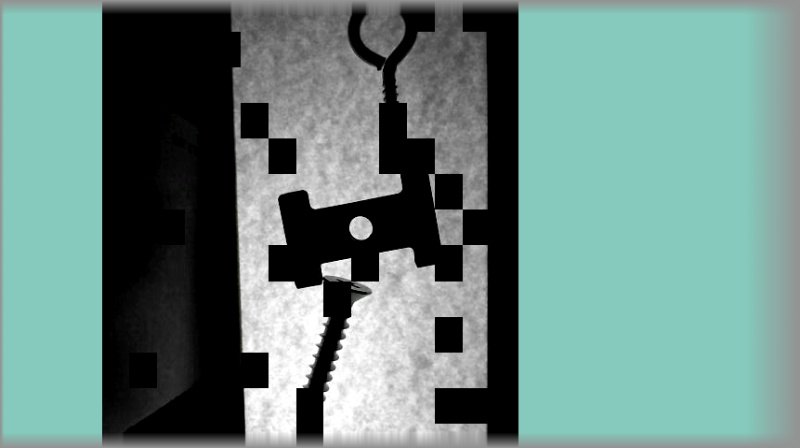O001: (347, 0, 419, 147)
O002: (276, 164, 443, 289)
S001: (297, 273, 372, 426)
